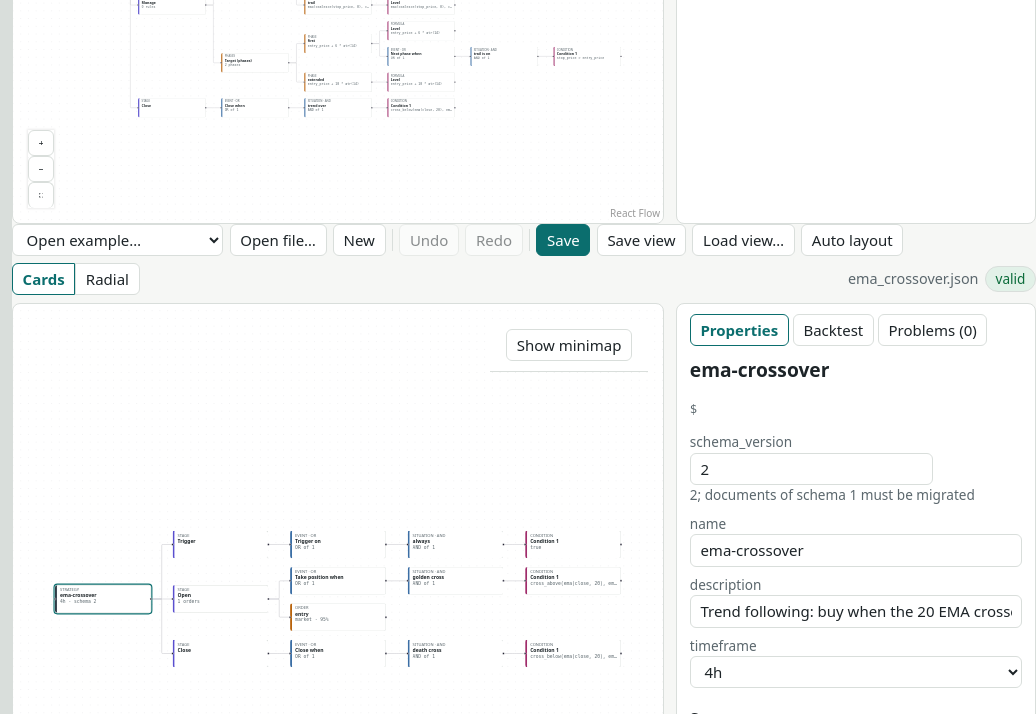
designer page › backtest: run, poll, link to the chart
The image size is (1036, 714).
(page scrolled)
Click the tab "Backtest" at (833,330), box [793, 314, 874, 346]
(page scrolled)
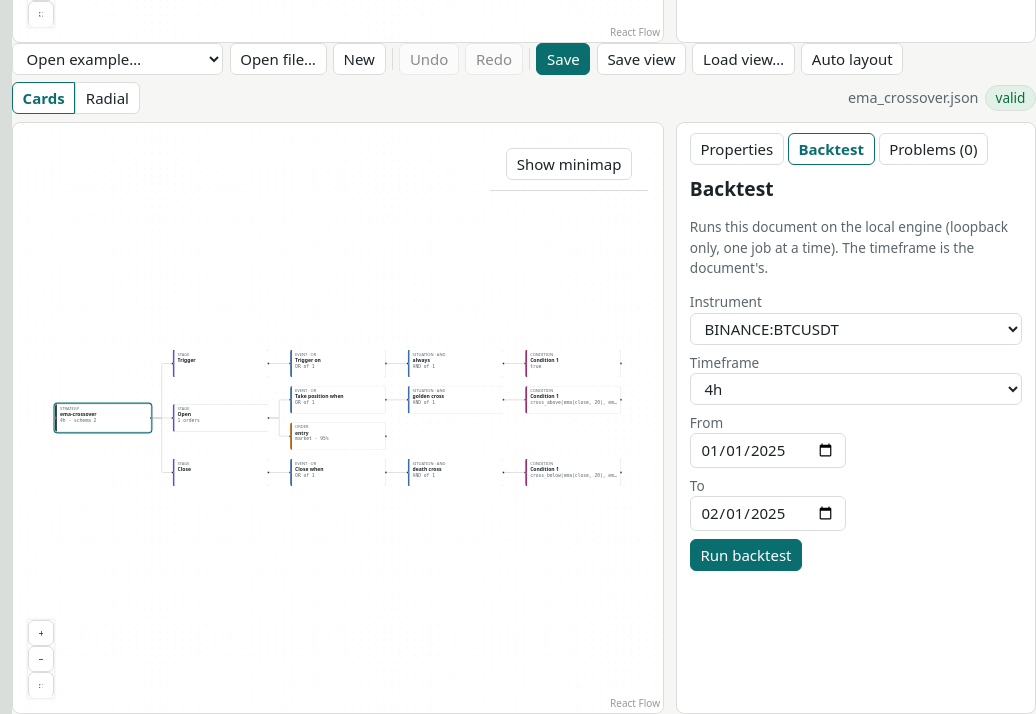
Click the button "Run backtest" at (746,555), box [690, 539, 802, 571]
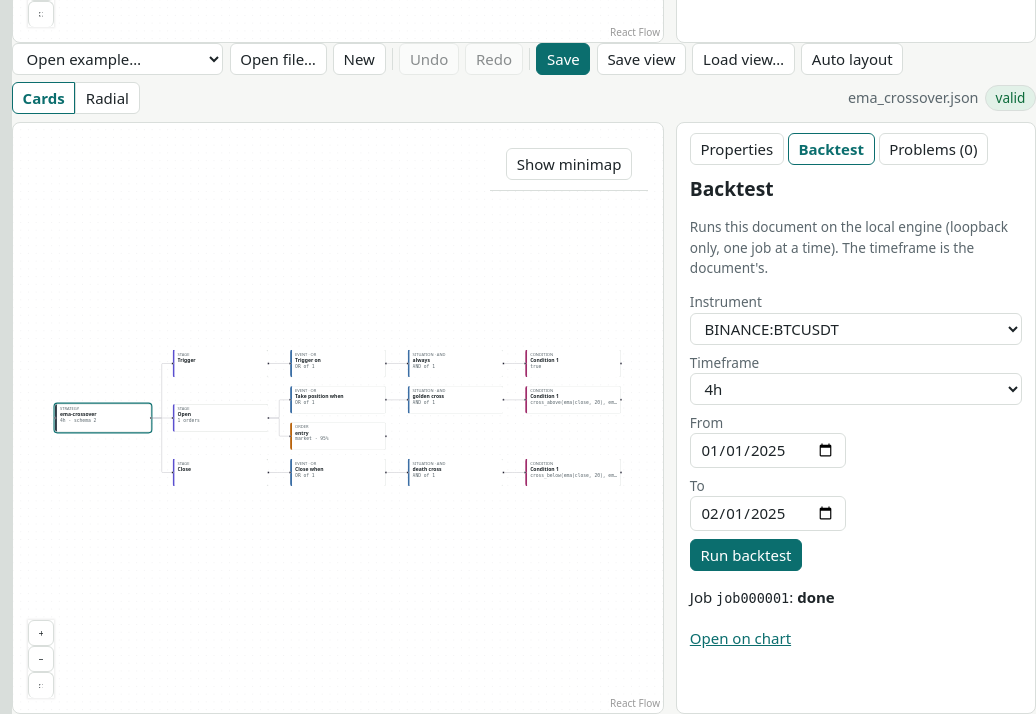
Check: the message "Job job000001: done Open on chart" is shown, box [690, 587, 835, 648]
